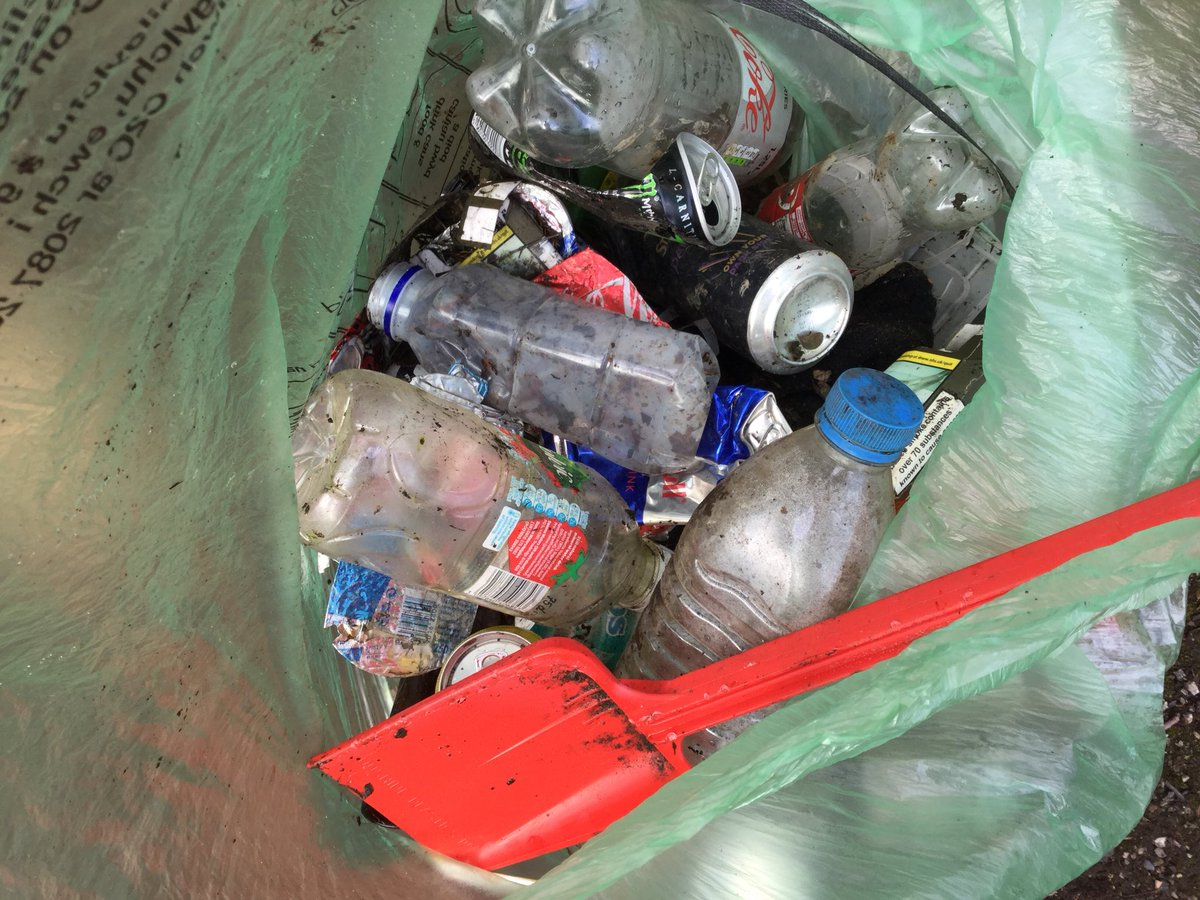bottle: (595, 367, 951, 767), (288, 360, 674, 628), (362, 255, 714, 475), (458, 1, 822, 192), (749, 81, 1018, 298)
can: (464, 106, 754, 251), (637, 228, 856, 375)
